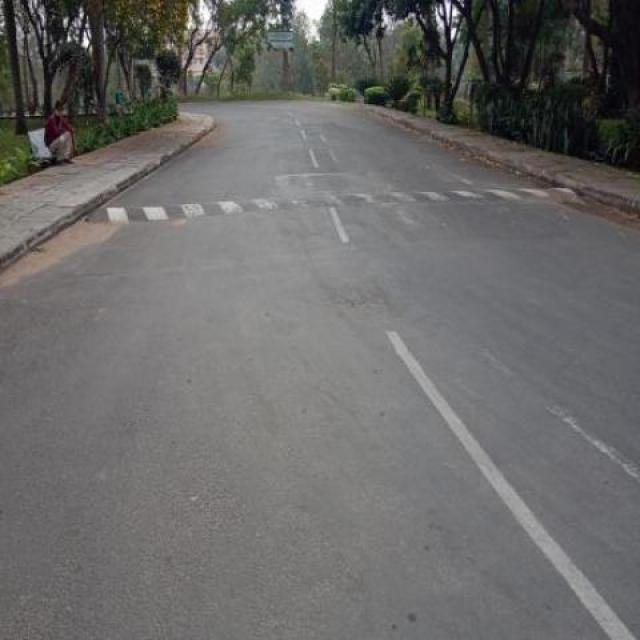Speed Bump: (84, 180, 587, 230)
